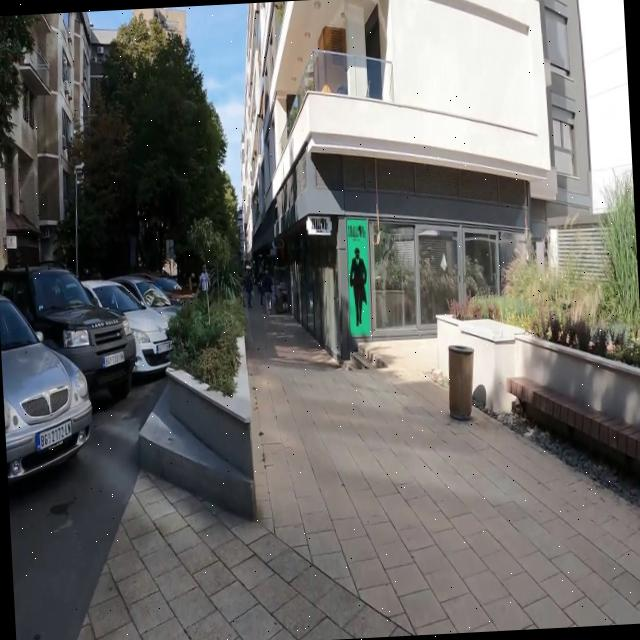License-plate: (34, 418, 75, 453), (99, 350, 126, 369), (157, 342, 174, 354)
